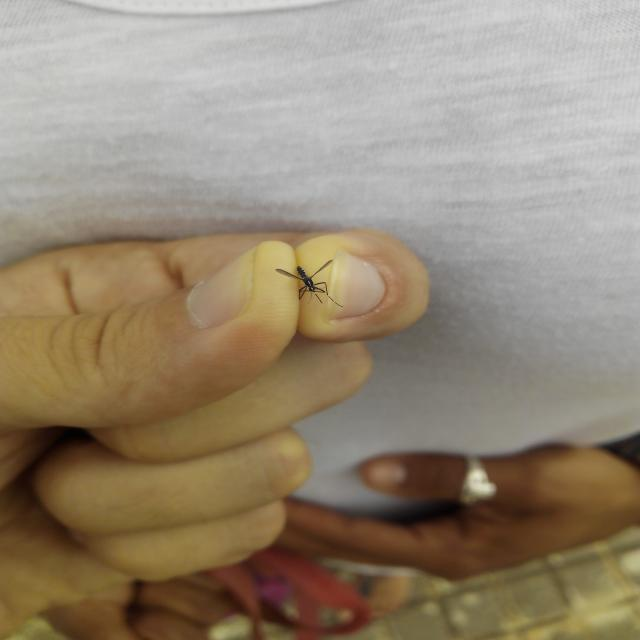albopictus: (271, 254, 345, 308)
